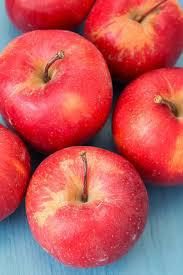apple: (48, 155, 146, 255), (4, 35, 104, 132), (118, 73, 182, 179)
